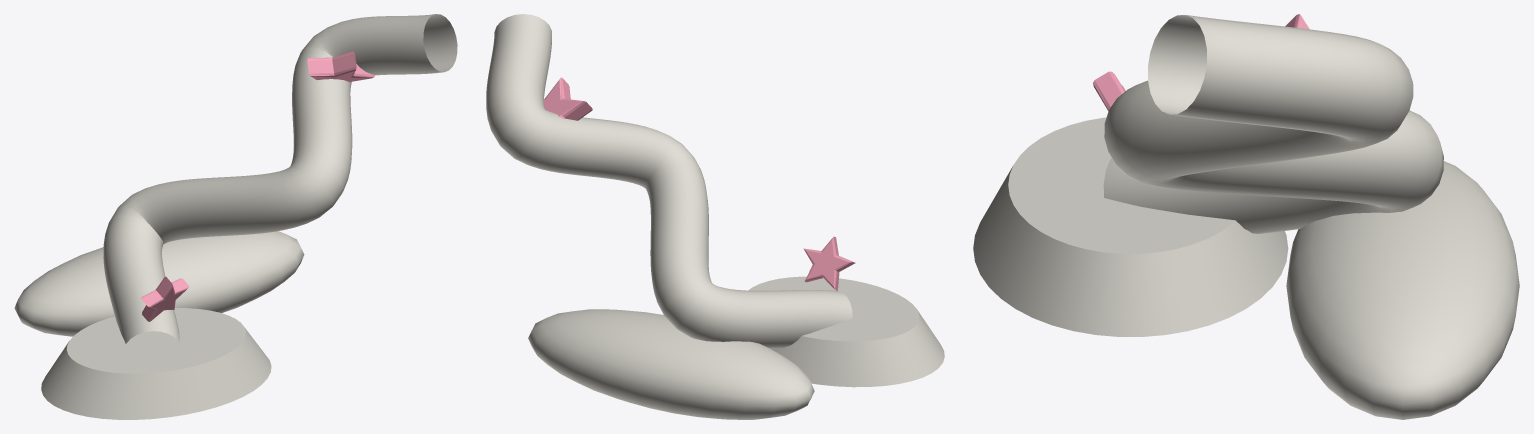
File: star-spiral-ramp.norm.glb
The picture shows the model from 3 angles, left to right: view 1: azimuth 30°, elevation 25°; view 2: azimuth 150°, elevation 25°; view 3: azimuth 270°, elevation 25°; orthographic projection. The views are drawn at different scales.
Size of the model in its own units: 217 by 144 by 140.
